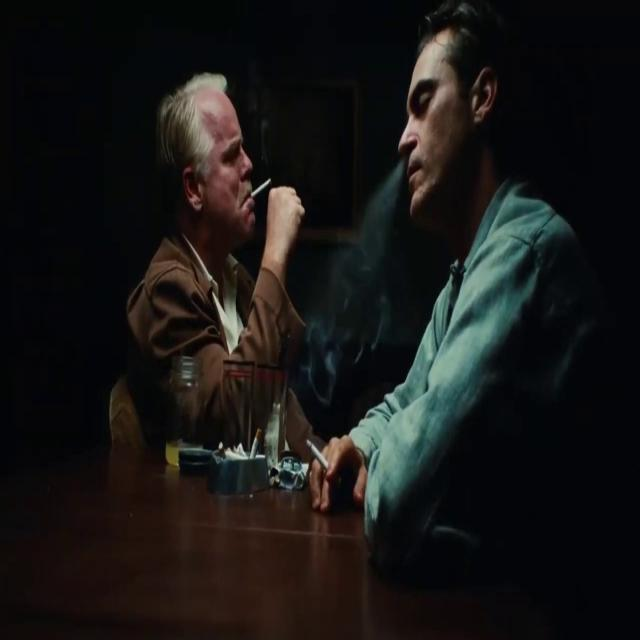Smooking: (302, 424, 332, 476), (244, 168, 272, 202)
